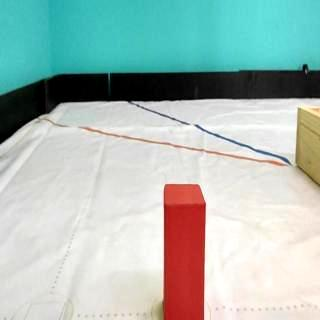redbox: (164, 184, 204, 320)
